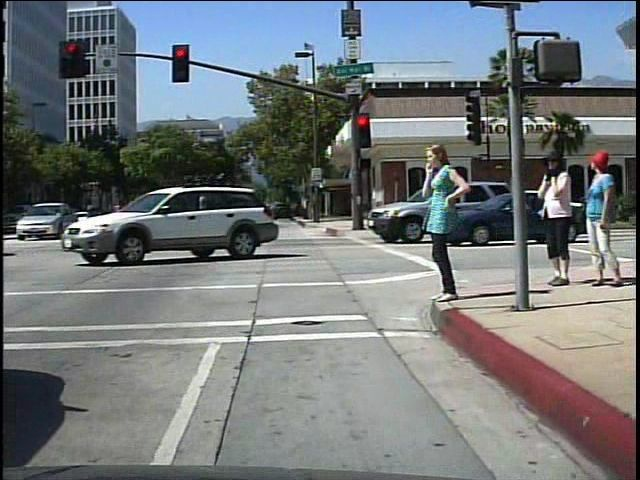person: (417, 138, 468, 306), (533, 147, 578, 291), (578, 146, 622, 291)
